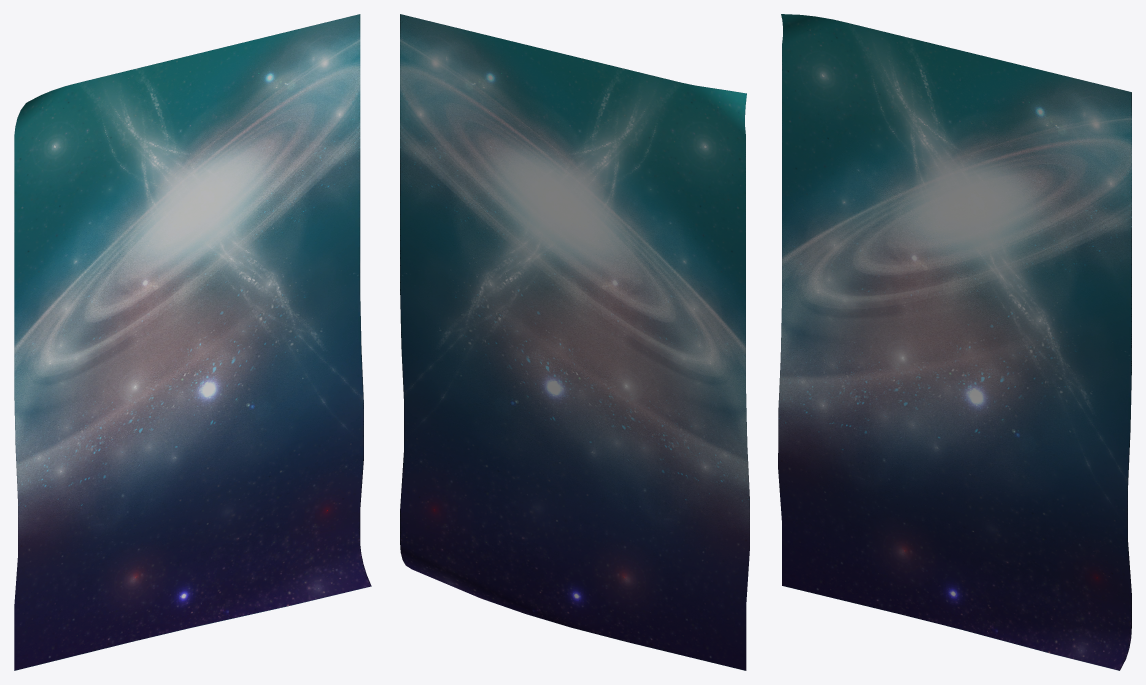
File: poster_universe.dae
3 renders of one model, left to right at view 1: azimuth 30°, elevation 25°; view 2: azimuth 150°, elevation 25°; view 3: azimuth 330°, elevation 25°, orthographic.
Parts seen in each view (by area): view 1: Mesh; view 2: Mesh; view 3: Mesh.
Part boxes in pixels (x1=…): Mesh: x1=14, y1=14, x2=371, y2=670; Mesh: x1=400, y1=14, x2=749, y2=670; Mesh: x1=778, y1=14, x2=1131, y2=670.
Bounding box in the file's own units: 0.6332 × 1 × 0.0376.
